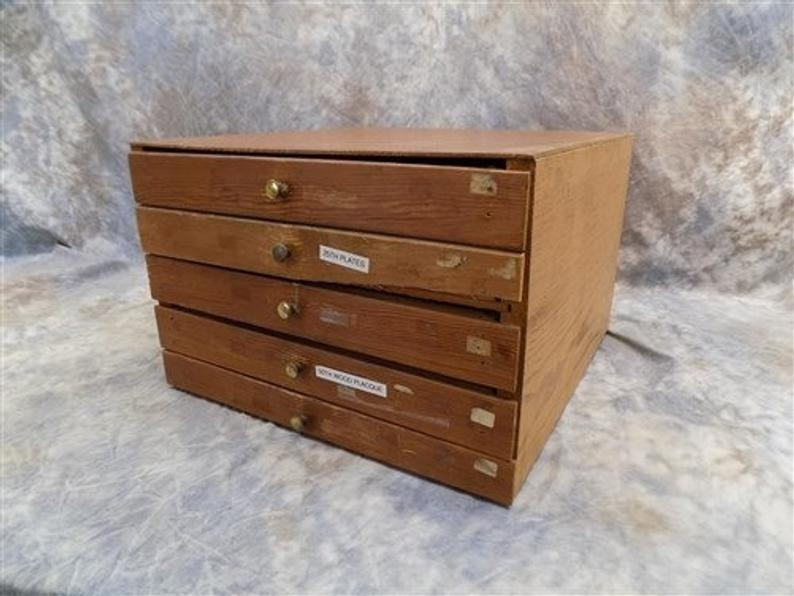cabinet_door: (139, 156, 525, 223), (158, 344, 512, 405), (148, 224, 522, 281), (157, 281, 520, 338), (165, 404, 507, 461)
handle: (271, 296, 305, 325), (262, 174, 293, 205), (281, 356, 312, 381), (269, 241, 296, 266), (289, 411, 315, 436)
